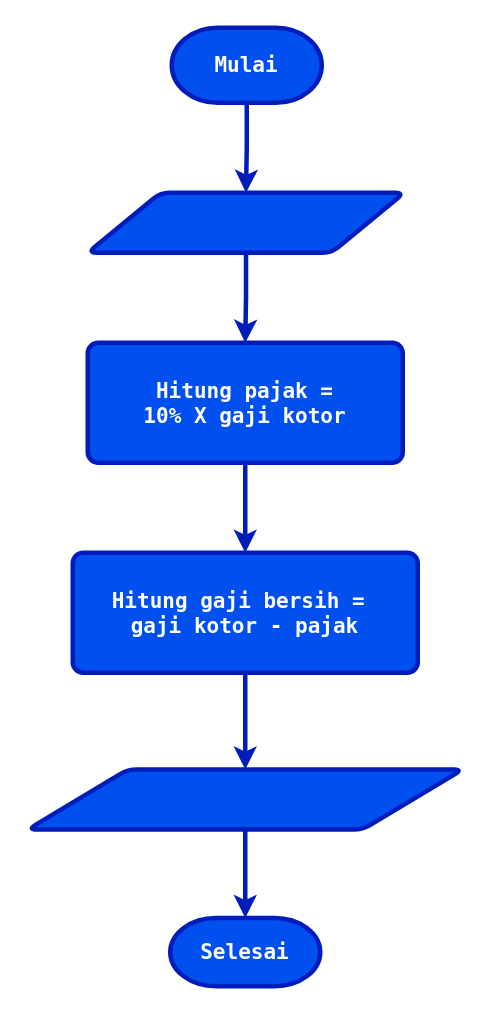
Image size: 491x1014. Some labels were removed from this diagram. Each missing label, with the centre of its shape:
Input gaji kotor: the point at 245,222
Tampilkan gaji bersih: the point at 244,798
